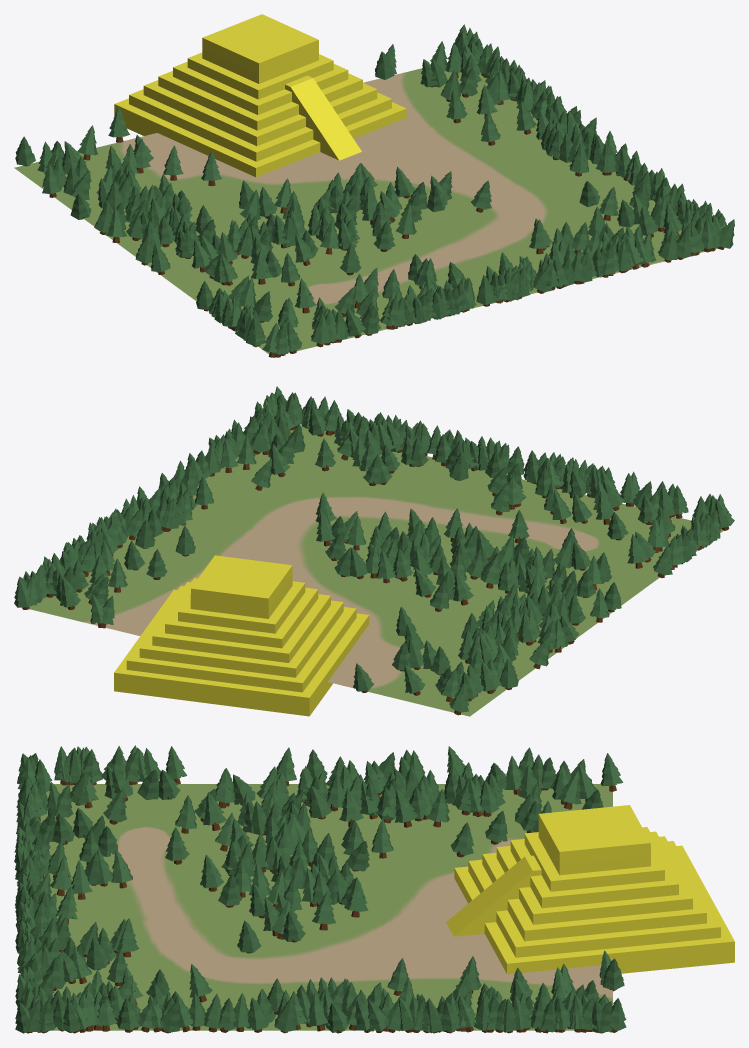
File: temple.glb
3 views of the same model, one above another, from view 1: azimuth 30°, elevation 25°; view 2: azimuth 150°, elevation 25°; view 3: azimuth 270°, elevation 25° (orthographic). The views are drawn at different scales.
Parts seen in each view (by area): view 1: Ground, Body, Stairs; view 2: Ground, Body; view 3: Ground, Body, Tree - copy (×28), Stairs.
Part boxes in pixels (x1,y1,x2,y2): Ground: (14,62,717,354); Body: (114,14,406,177); Stairs: (285,75,361,160); Ground: (29,425,723,716); Body: (114,555,369,716); Ground: (40,784,612,1030); Body: (454,805,734,974); Tree - copy (×28): (50,753,623,1033); Stairs: (446,855,541,936).
Size of the model in its own units: 52.45 by 9.2 by 61.72.
Materials: 4 (1 with a texture image).
